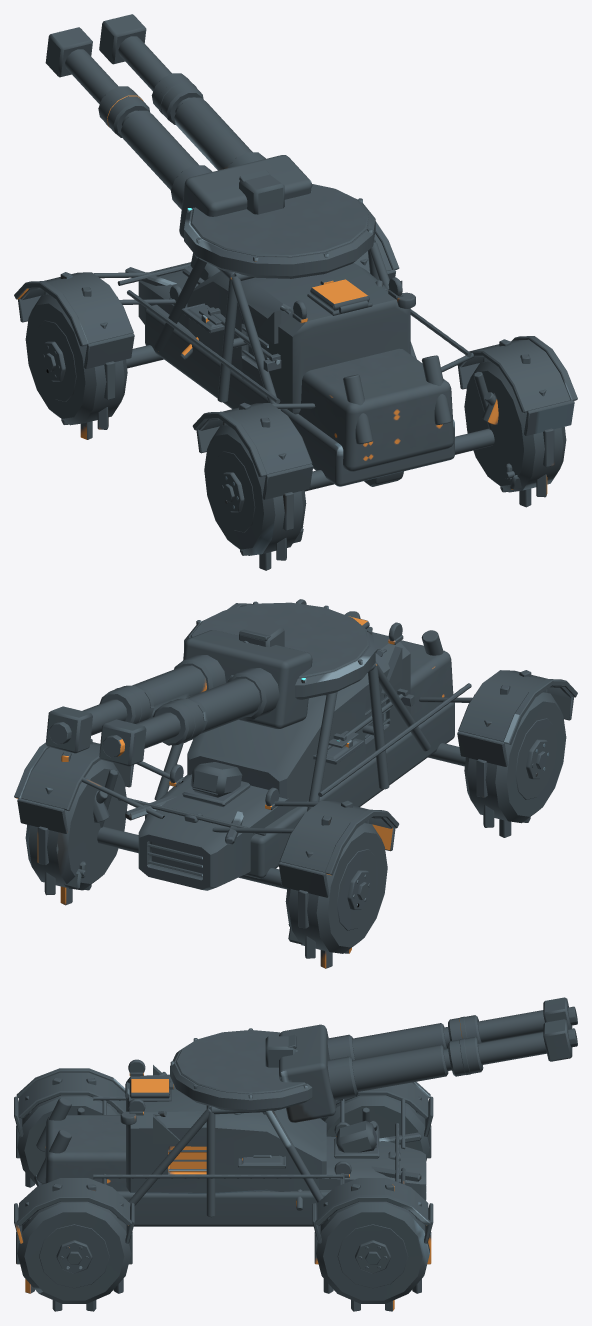
Rendered from FieldMedicRover_Atlas.fbx.
The picture shows the model from 3 angles, top to bottom: view 1: azimuth 30°, elevation 25°; view 2: azimuth 150°, elevation 25°; view 3: azimuth 270°, elevation 25°; orthographic projection. The views are drawn at different scales.
Visible parts, largest first — view 1: FieldMedicRover_UnifiedMesh; view 2: FieldMedicRover_UnifiedMesh; view 3: FieldMedicRover_UnifiedMesh.
Part boxes in pixels (left/top/right/bottom): FieldMedicRover_UnifiedMesh: left=14, top=14, right=577, bottom=570; FieldMedicRover_UnifiedMesh: left=14, top=599, right=577, bottom=968; FieldMedicRover_UnifiedMesh: left=14, top=997, right=577, bottom=1311.
Size of the model in its own units: 226 by 198 by 416.
Materials: 1 (1 with a texture image).
